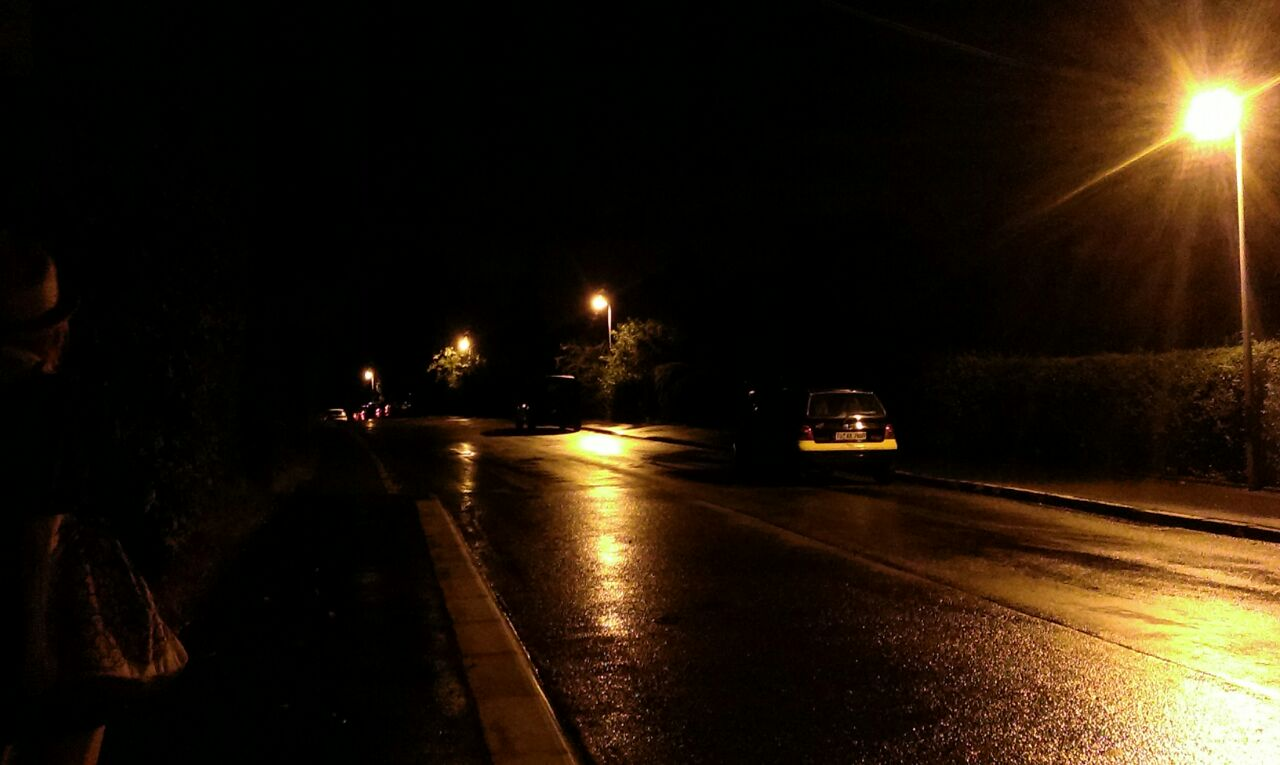car: (507, 363, 587, 437)
